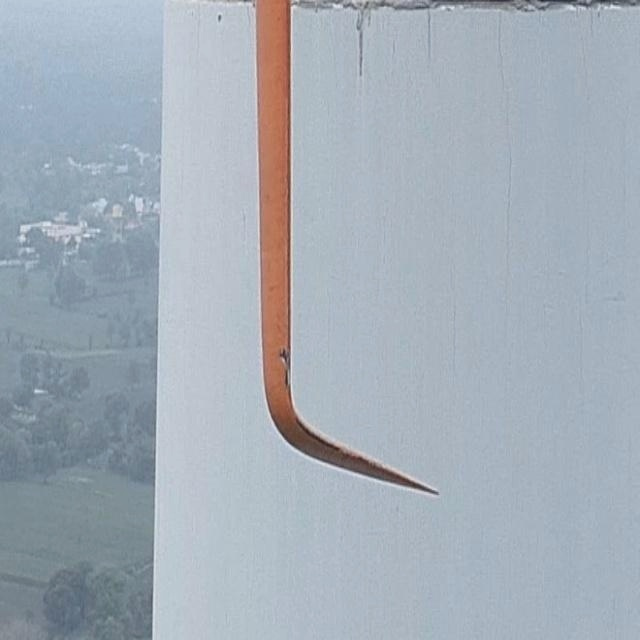EROSION: (292, 420, 371, 459), (274, 349, 294, 391)
